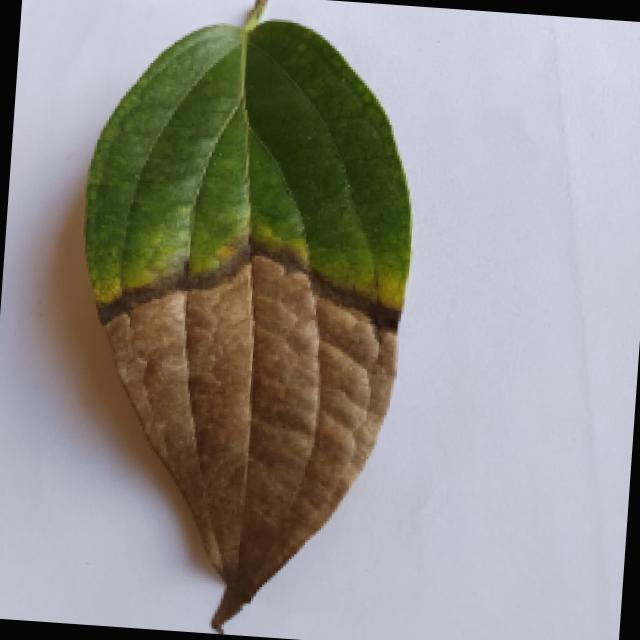footrot: (48, 0, 426, 637)
